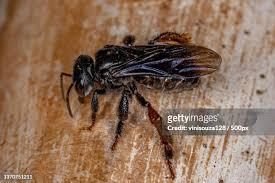Meliponula: (53, 31, 248, 150)
